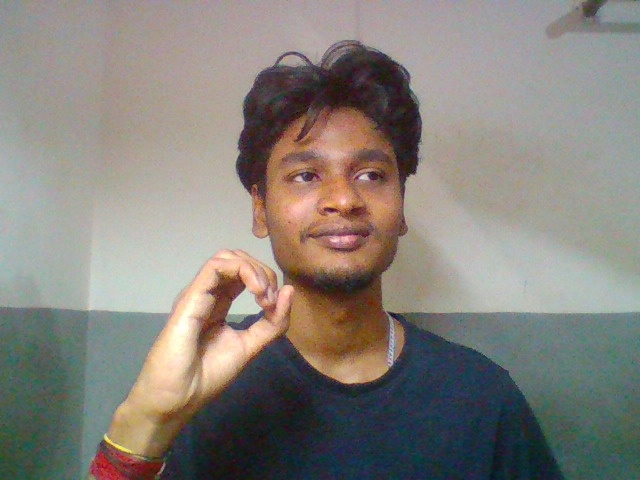O: (102, 240, 309, 451)
